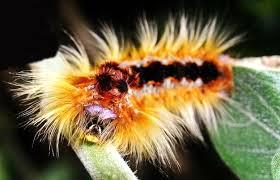Caterpillar: (28, 24, 240, 153)
